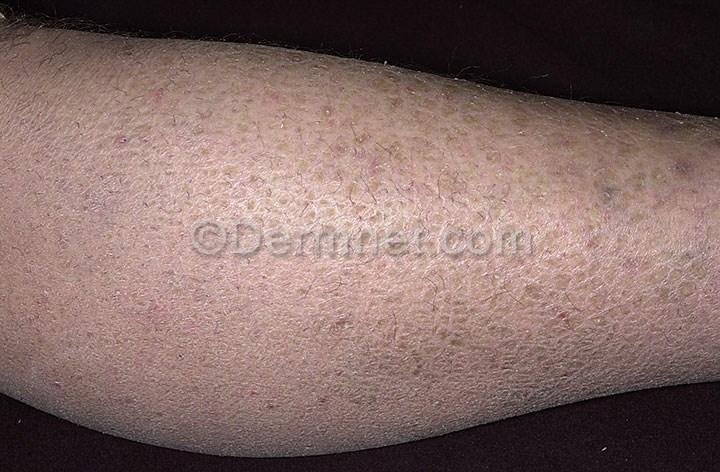eritema 1: (0, 19, 712, 450)
liquenificacion 1: (1, 16, 720, 444)
xerosis 3: (4, 19, 720, 454)
